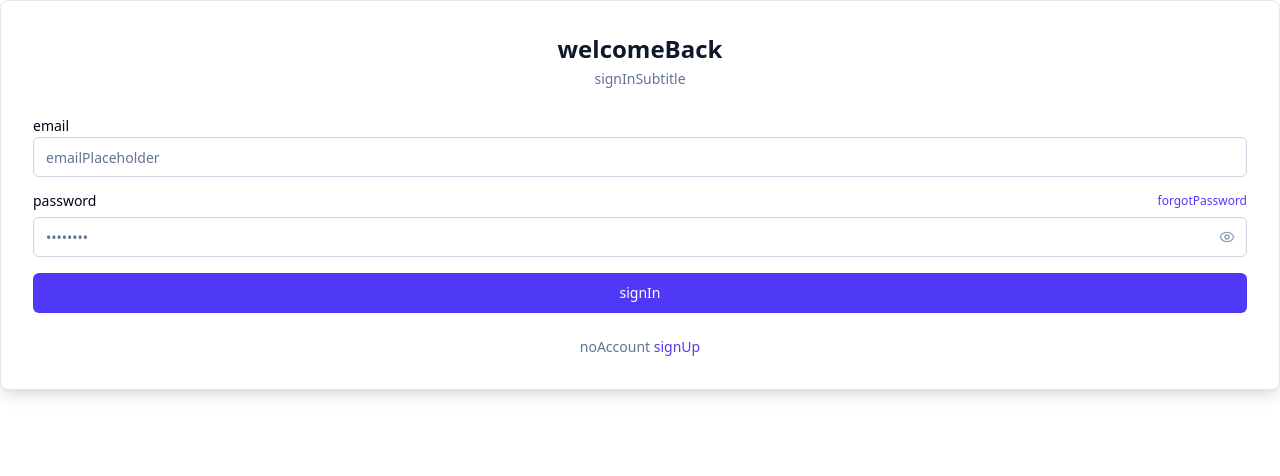
Test: Login › shows error message on failed login
The width and height of the screenshot is (1280, 476).
Type "bad@test.com" into the field labelled "email" at (640, 157), box [33,137,1247,177]
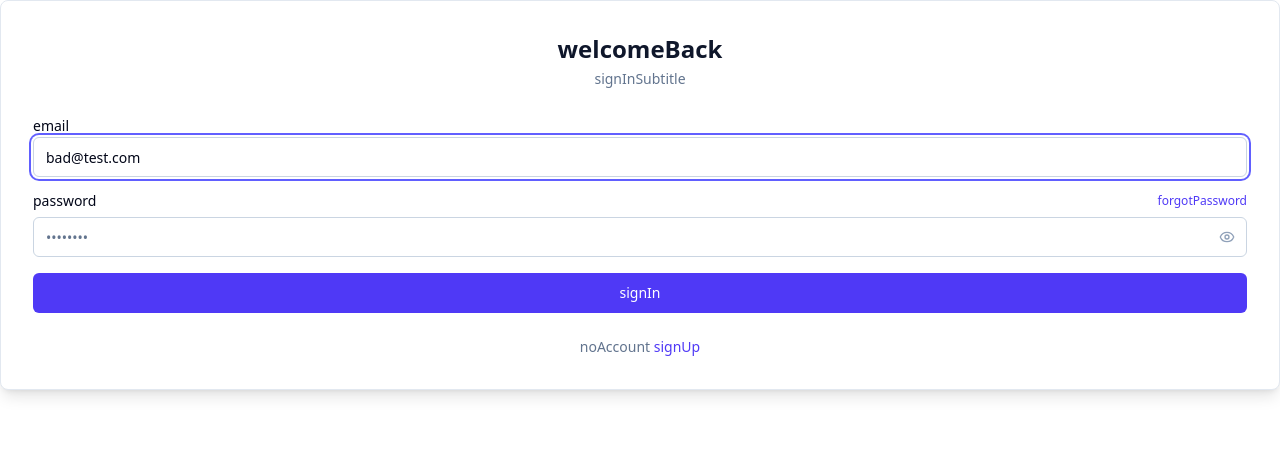
Type "wrong" into the password field labelled "password" at (640, 237), box [33,217,1247,257]
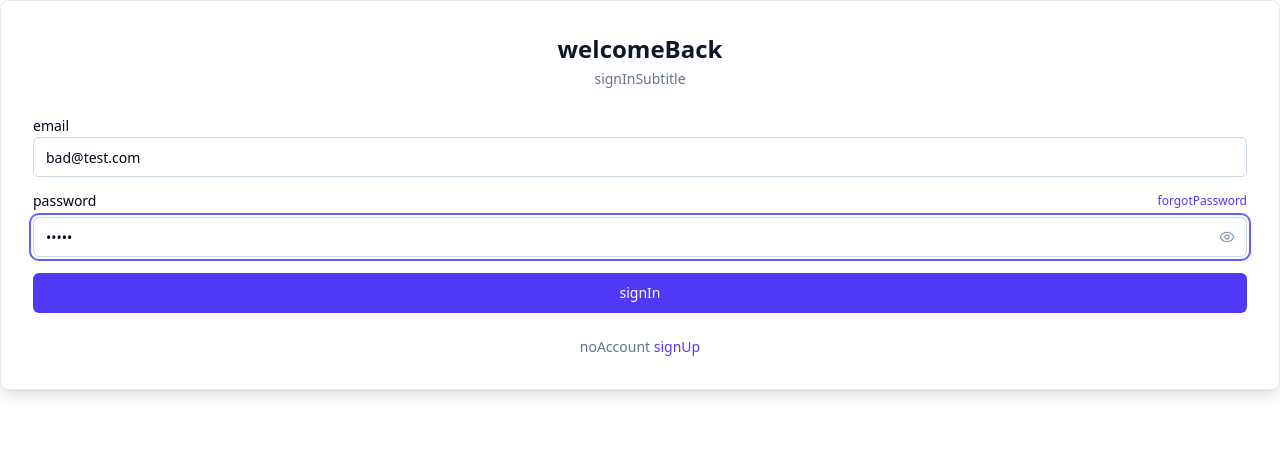
Click the button "signIn" at (640, 293), box [33,273,1247,313]
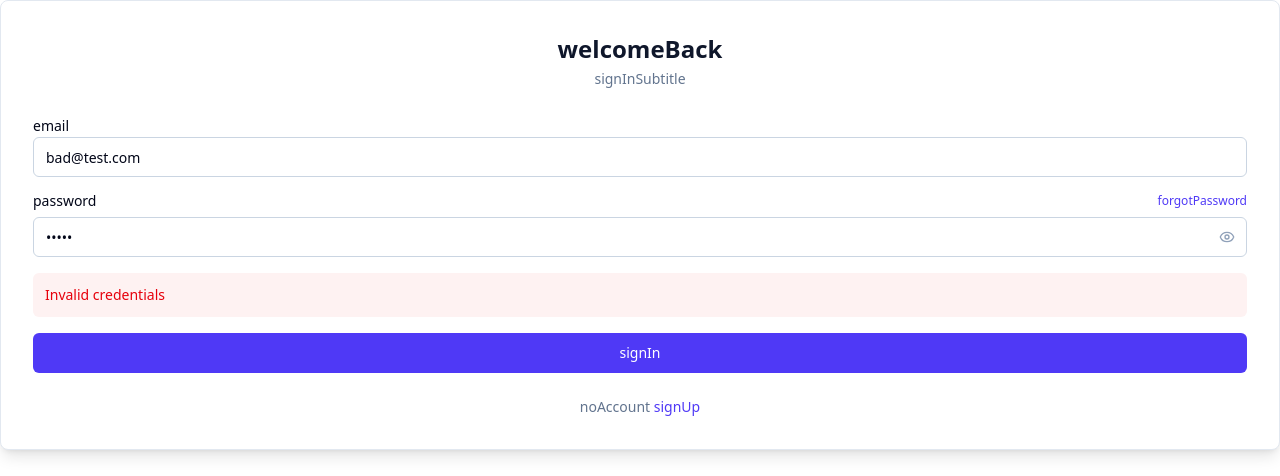
Now the text "Invalid credentials" is shown, box [33,273,1247,317]
